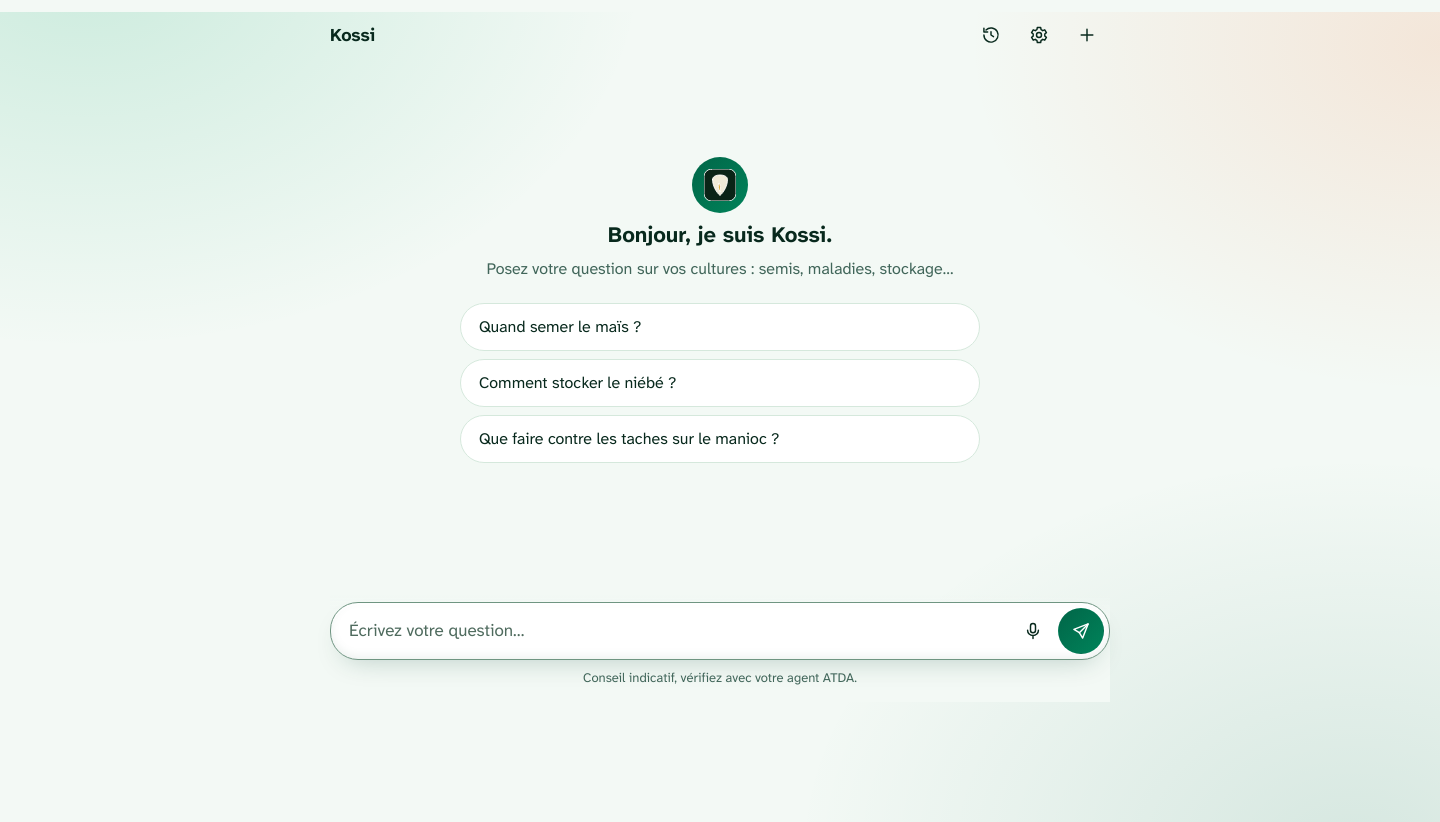
Test case: Assistant agricole › envoie les derniers échanges avec la question et montre le nom de l'assistant
Check: the heading "Kossi" is shown, box top-left (330, 23), bottom-right (375, 47)
Type "Quand semer le maïs ?" into the text box with placeholder "Écrivez votre question…" at (678, 631), box top-left (349, 608), bottom-right (1008, 654)
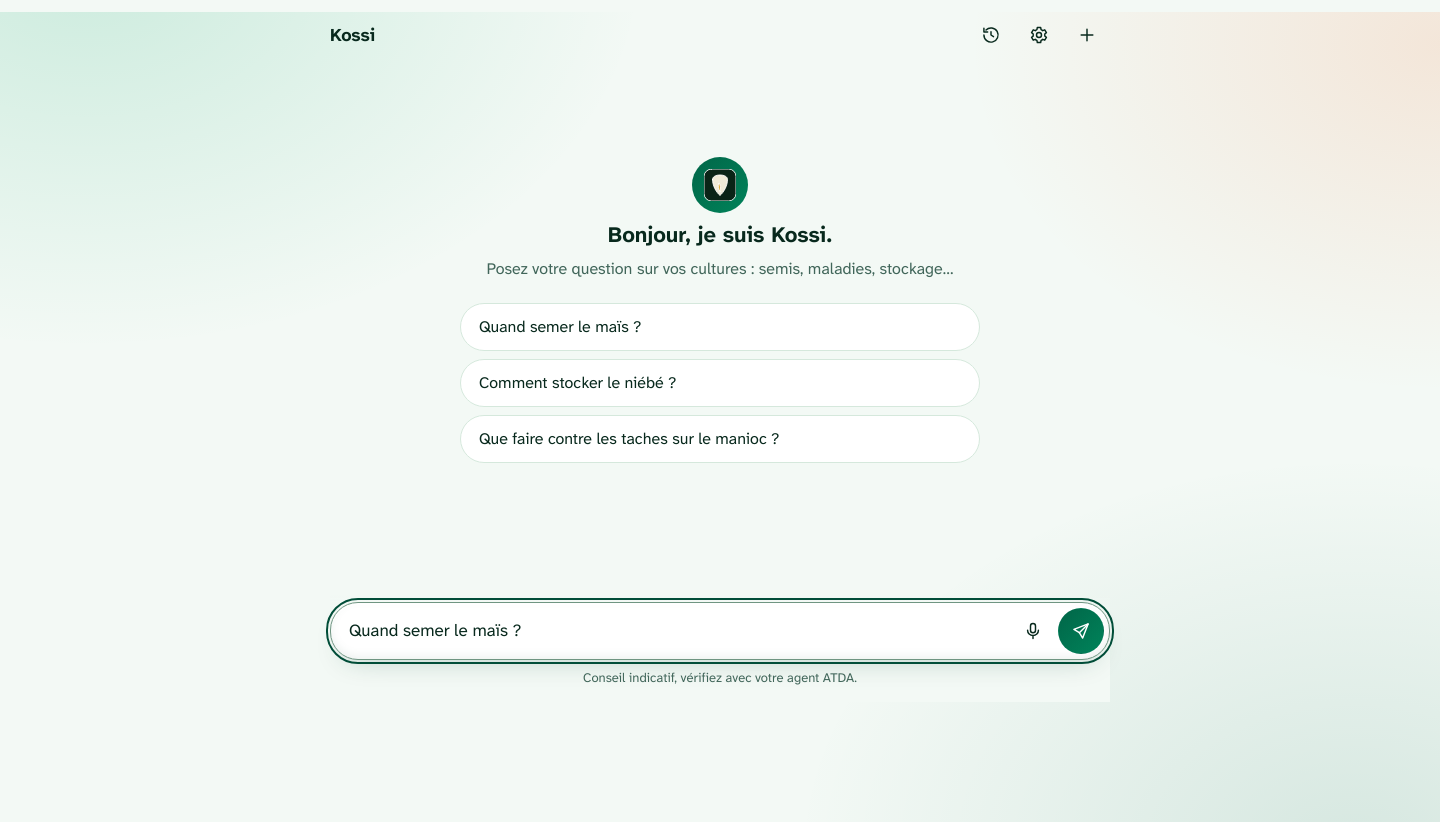
Click the button named "Envoyer" at (1081, 631), box top-left (1058, 608), bottom-right (1104, 654)
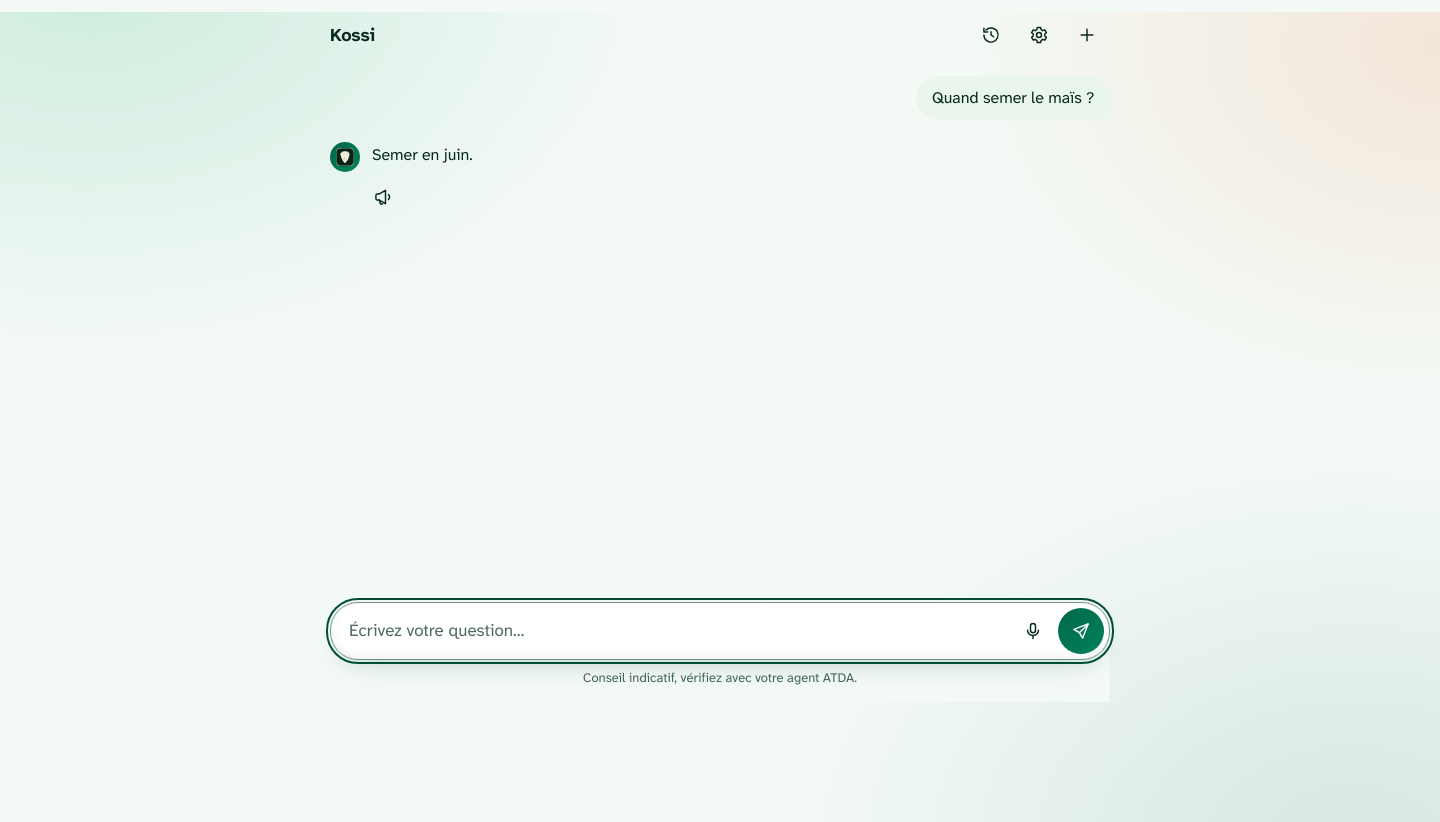
Check: the text "Semer en juin." is shown, box top-left (372, 144), bottom-right (473, 165)
Type "Et pour le riz ?" into the text box with placeholder "Écrivez votre question…" at (678, 631), box top-left (349, 608), bottom-right (1008, 654)
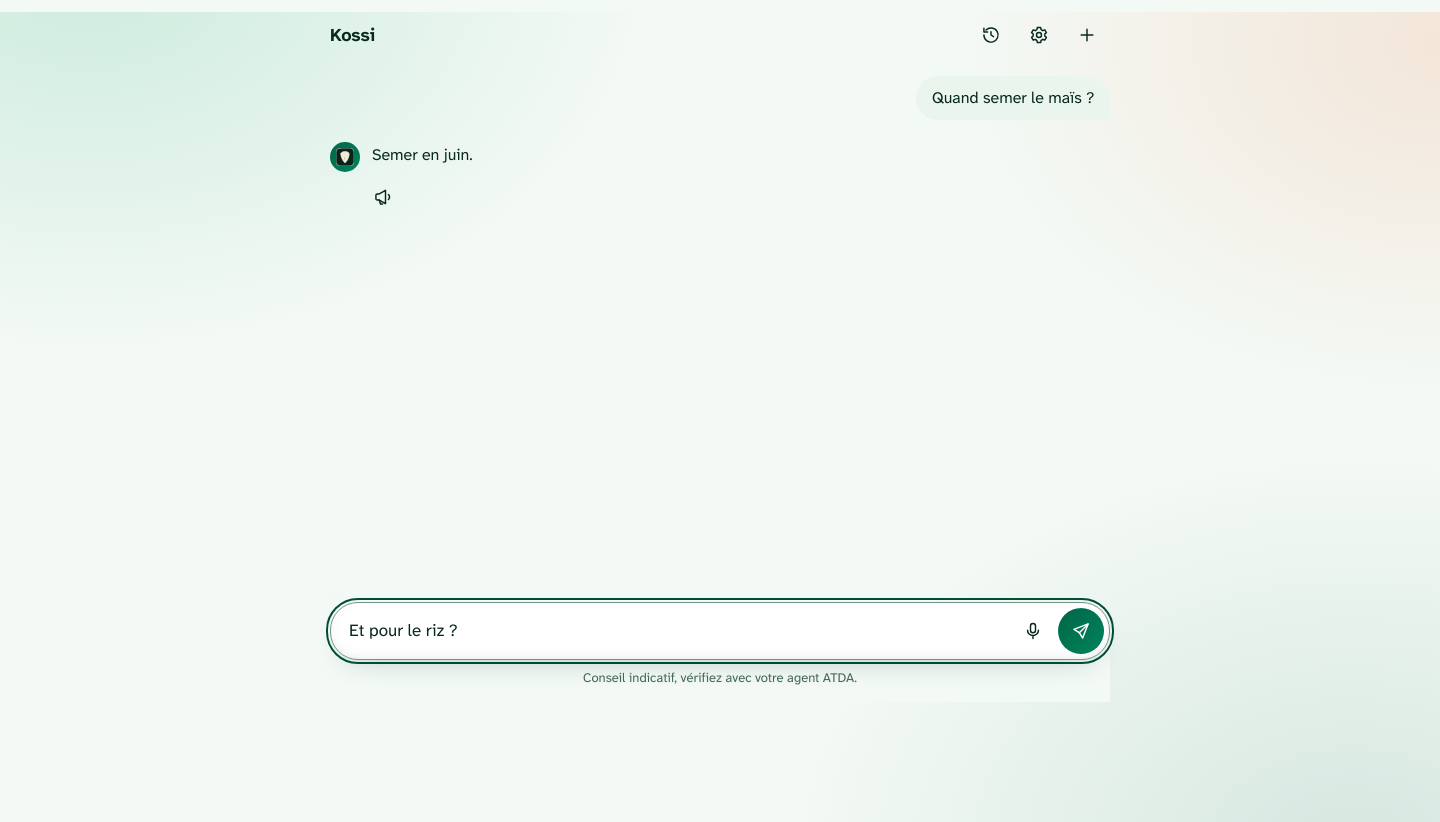
Click the button named "Envoyer" at (1081, 631), box top-left (1058, 608), bottom-right (1104, 654)
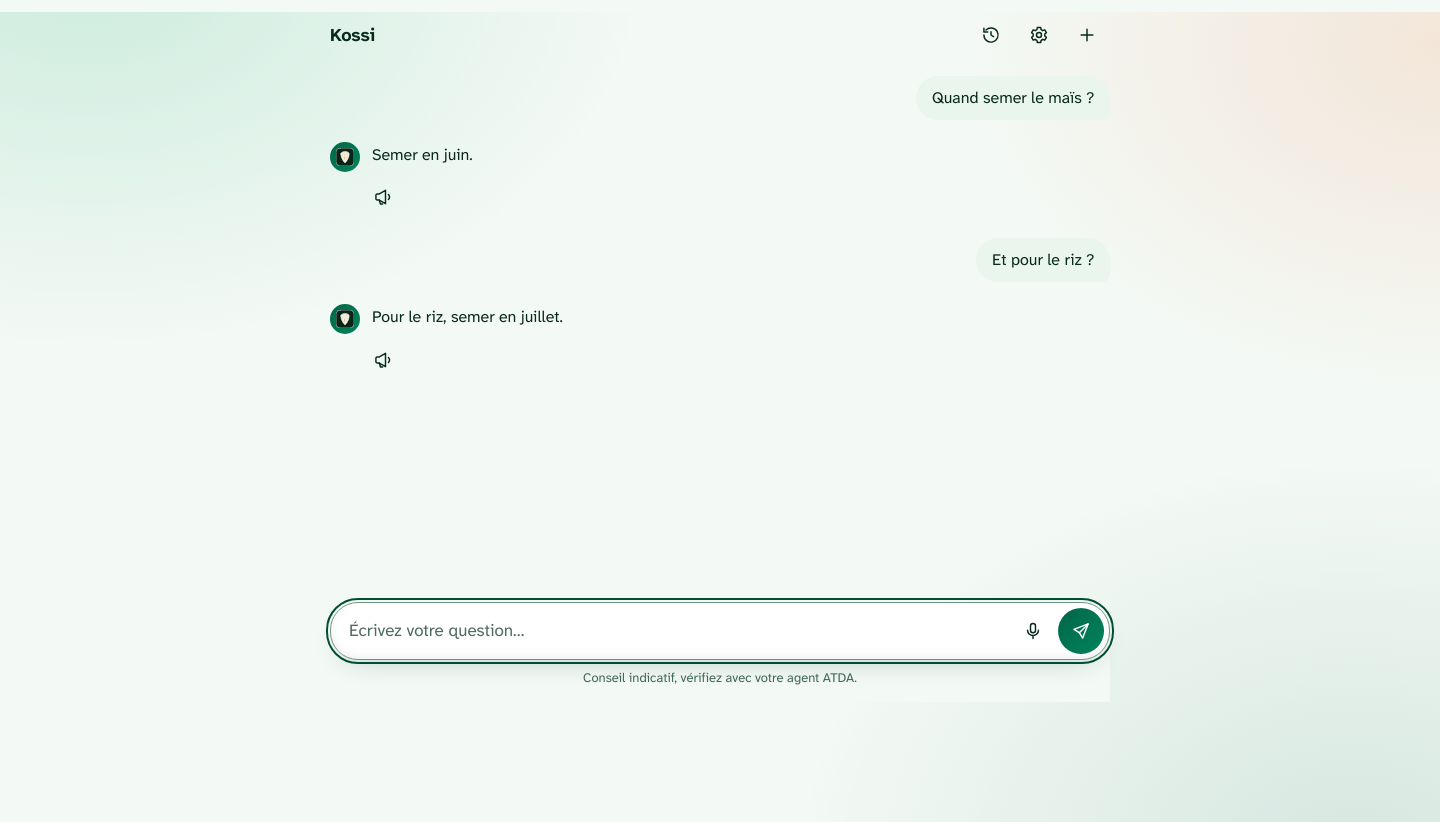
Check: the text "Pour le riz, semer en juillet." is shown, box top-left (372, 306), bottom-right (563, 327)
